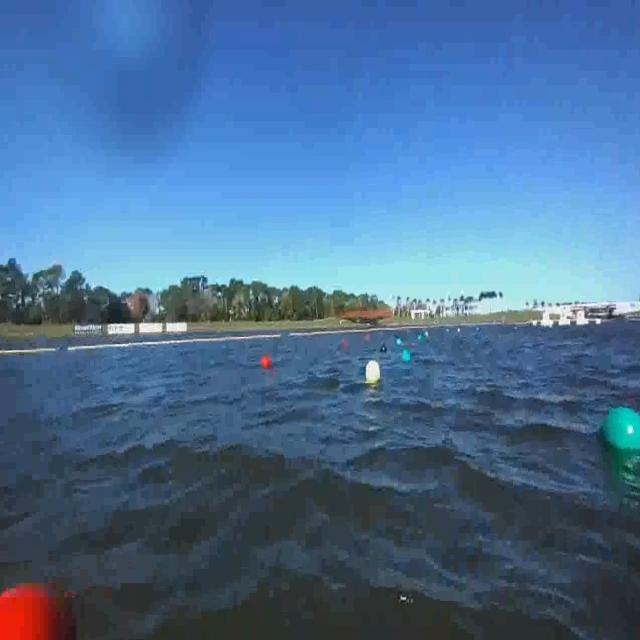black-buoy: (380, 344, 386, 352)
green-buoy: (598, 407, 640, 453), (403, 349, 412, 363)
red-buoy: (1, 579, 72, 639), (262, 355, 272, 369)
yellow-buoy: (365, 360, 380, 385)
